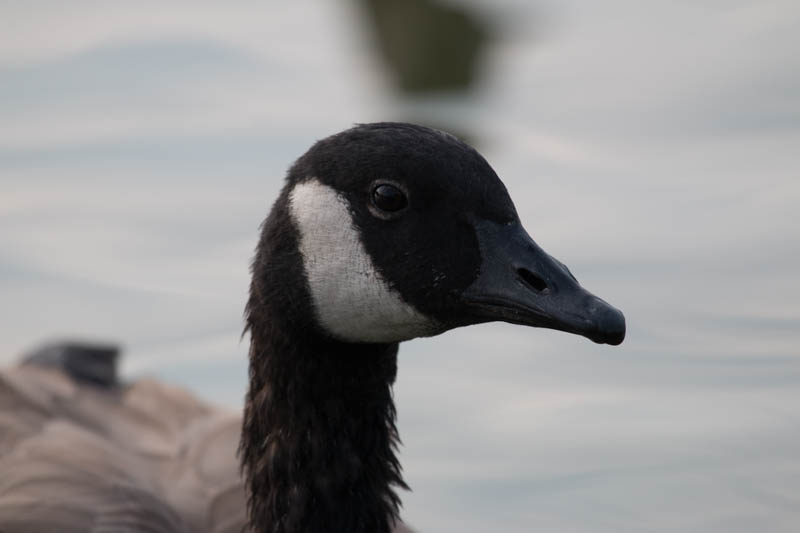goose-head: (248, 122, 626, 347)
